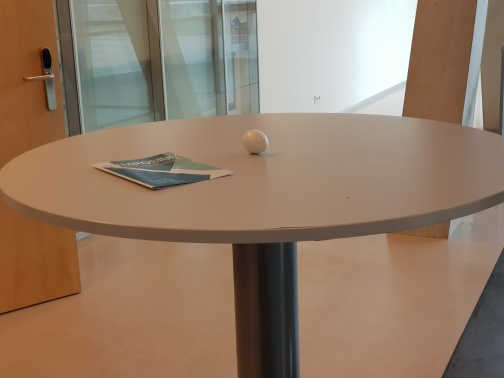egg: (241, 128, 270, 154)
